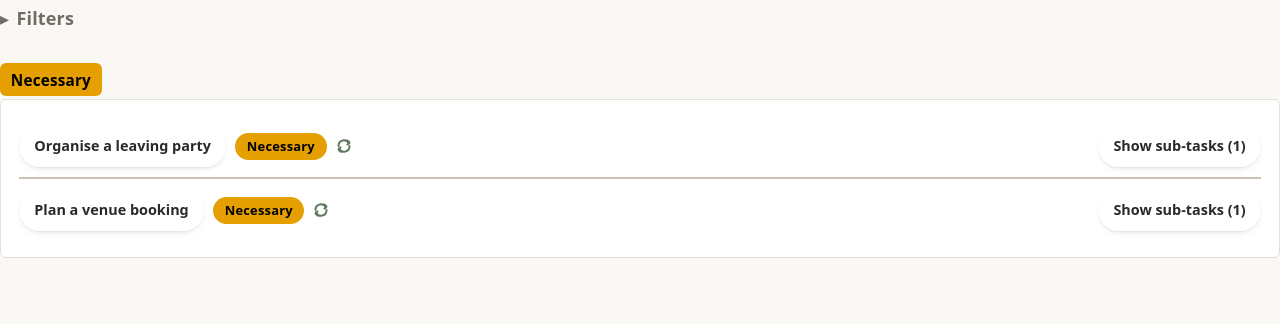
FRONTEND-045-AC-09/AC-10: expand/collapse and single-expansion › expands the clicked activity and collapses a previously-expanded one
The width and height of the screenshot is (1280, 324).
Click the 1st button "Show sub-tasks (1)".
click(1180, 146)  # box [1098,126,1261,166]
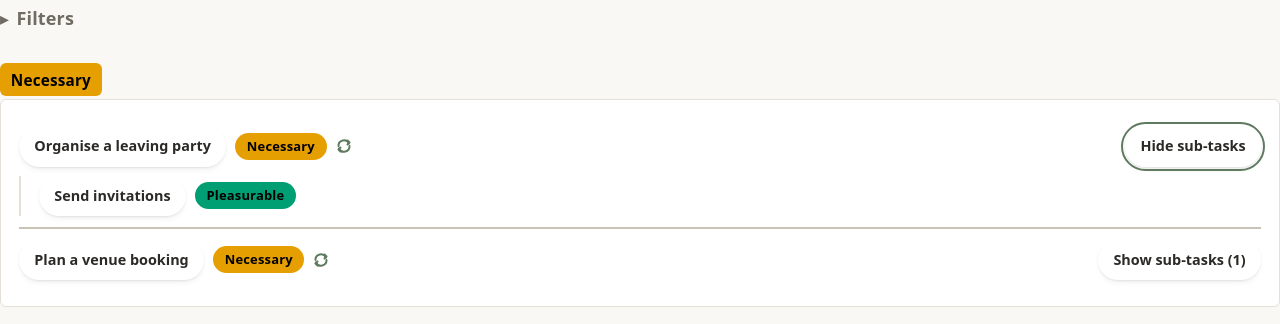
Result: the button "Send invitations" is shown at [39,176,186,216]
Click the button "Show sub-tasks (1)".
click(1180, 260)  # box [1098,240,1261,280]
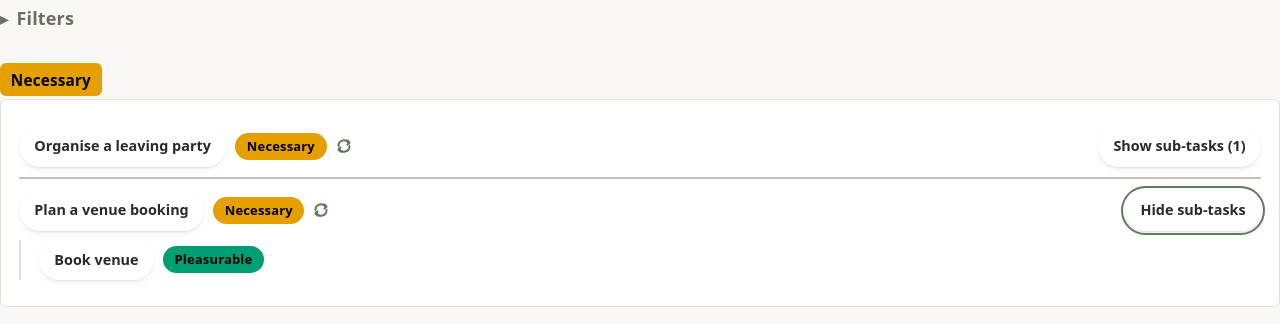
Result: the button "Send invitations" is gone
Result: the button "Book venue" is shown at [39,240,154,280]
